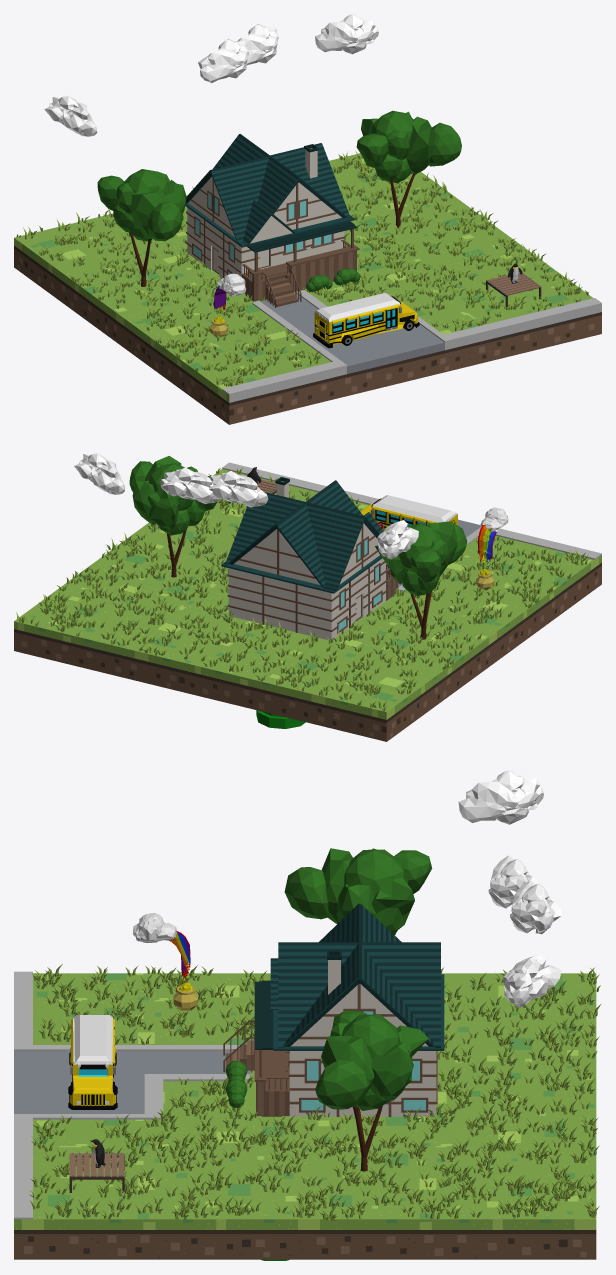
3 renders of one model, top to bottom at view 1: azimuth 30°, elevation 25°; view 2: azimuth 150°, elevation 25°; view 3: azimuth 270°, elevation 25°, orthographic. The views are drawn at different scales.
Visible parts, largest first — view 1: Cube.006, Cube.793, Circle.012_Grass_0.192, Cube.007, tree, tree.001, VEHICLES_SCHOOL_BUS, OBJRANDOM_RAINBOW, Cube.009; view 2: Cube.006, Cube.793, Circle.012_Grass_0.192, Cube.007, tree.001, tree, VEHICLES_SCHOOL_BUS, OBJRANDOM_RAINBOW, UNDERGROUND_PIPES; view 3: Cube.006, Circle.012_Grass_0.192, Cube.793, tree, Cube.007, tree.001, VEHICLES_SCHOOL_BUS, OBJRANDOM_RAINBOW, Cube.009.
Boxes of the visible parts, x1=… form: Cube.006: x1=14, y1=153, x2=601, y2=424; Cube.793: x1=185, y1=134, x2=359, y2=307; Circle.012_Grass_0.192: x1=16, y1=150, x2=588, y2=386; Cube.007: x1=44, y1=14, x2=378, y2=136; tree: x1=356, y1=110, x2=461, y2=228; tree.001: x1=97, y1=169, x2=186, y2=286; VEHICLES_SCHOOL_BUS: x1=313, y1=293, x2=419, y2=348; OBJRANDOM_RAINBOW: x1=209, y1=273, x2=246, y2=337; Cube.009: x1=486, y1=272, x2=541, y2=306; Cube.006: x1=14, y1=462, x2=601, y2=741; Cube.793: x1=221, y1=477, x2=398, y2=640; Circle.012_Grass_0.192: x1=16, y1=468, x2=588, y2=711; Cube.007: x1=74, y1=453, x2=418, y2=559; tree.001: x1=375, y1=521, x2=467, y2=639; tree: x1=129, y1=456, x2=216, y2=577; VEHICLES_SCHOOL_BUS: x1=360, y1=495, x2=457, y2=530; OBJRANDOM_RAINBOW: x1=475, y1=507, x2=508, y2=590; UNDERGROUND_PIPES: x1=256, y1=710, x2=305, y2=728; Cube.006: x1=14, y1=971, x2=596, y2=1259; Circle.012_Grass_0.192: x1=29, y1=964, x2=600, y2=1220; Cube.793: x1=223, y1=903, x2=444, y2=1116; tree: x1=315, y1=1010, x2=428, y2=1171; Cube.007: x1=458, y1=770, x2=561, y2=1007; tree.001: x1=284, y1=848, x2=432, y2=935; VEHICLES_SCHOOL_BUS: x1=68, y1=1015, x2=117, y2=1109; OBJRANDOM_RAINBOW: x1=133, y1=913, x2=198, y2=1010; Cube.009: x1=69, y1=1152, x2=124, y2=1192.
Size of the model in its own units: 4071 by 2759 by 4040.
36 materials, 4 textured.
